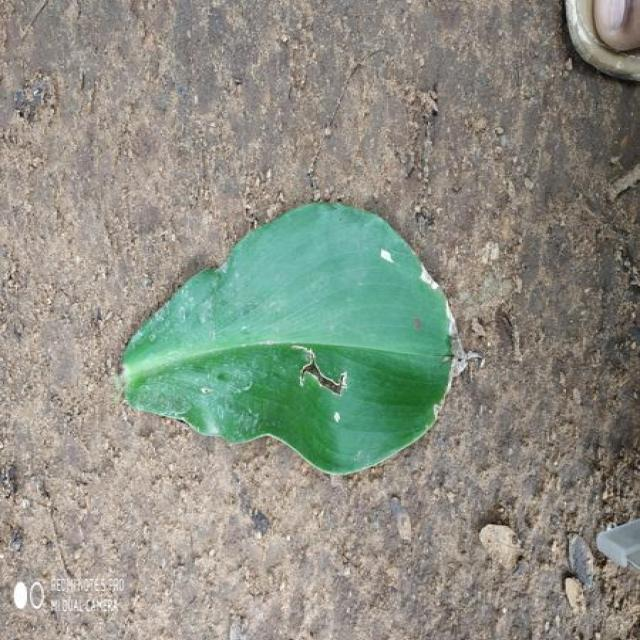insulin: (122, 204, 465, 474)
